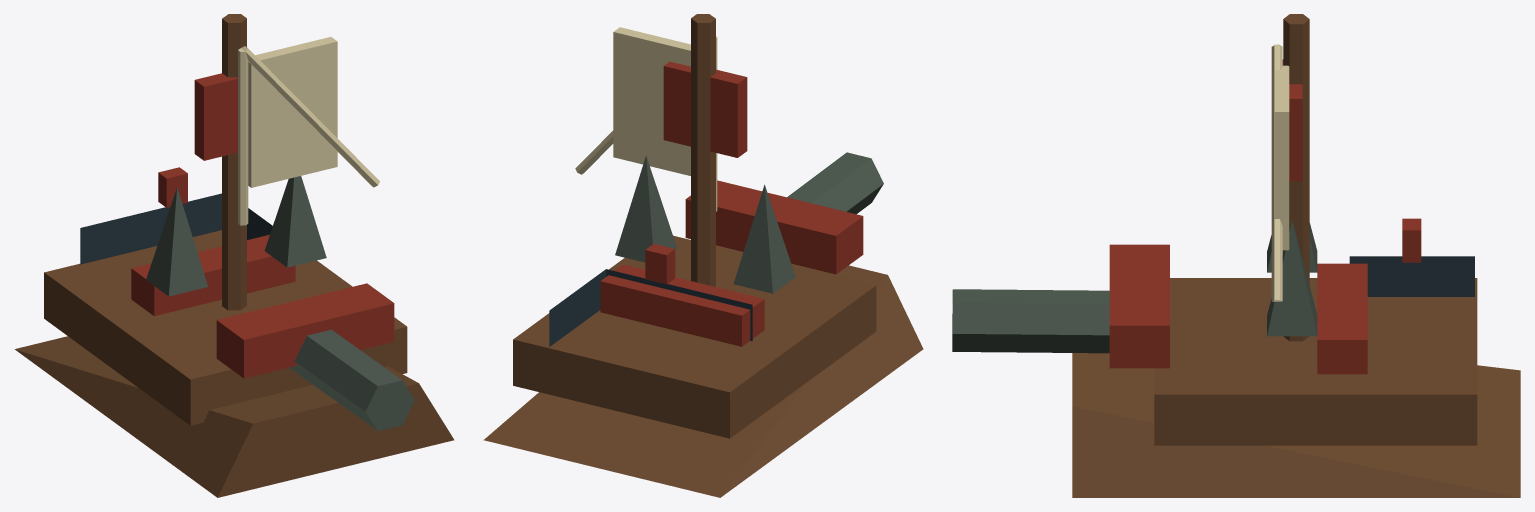
Rendered from light-warship.obj.
3 renders of one model, left to right at view 1: azimuth 30°, elevation 25°; view 2: azimuth 150°, elevation 25°; view 3: azimuth 270°, elevation 25°, orthographic. The views are drawn at different scales.
Visible parts, largest first — view 1: ship; view 2: ship; view 3: ship.
Boxes of the visible parts, x1,y1,x2,y2 form: ship: [14, 14, 454, 497]; ship: [483, 14, 923, 497]; ship: [952, 14, 1520, 497].
Size of the model in its own units: 1.54 by 2.18 by 2.71.
